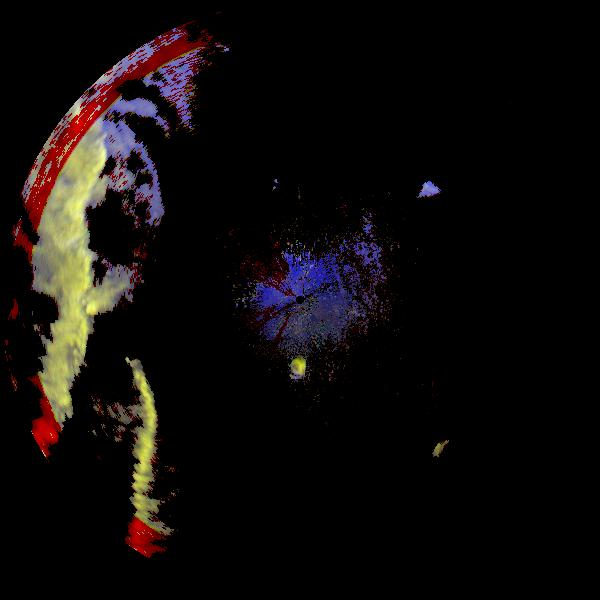roost: (405, 177, 456, 228), (431, 436, 470, 475), (290, 356, 314, 380)
